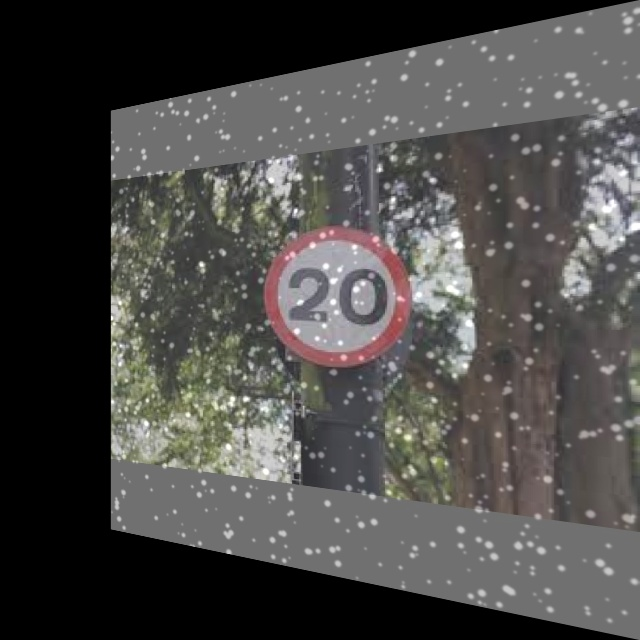Speed_Limit_20: (261, 221, 416, 369)
